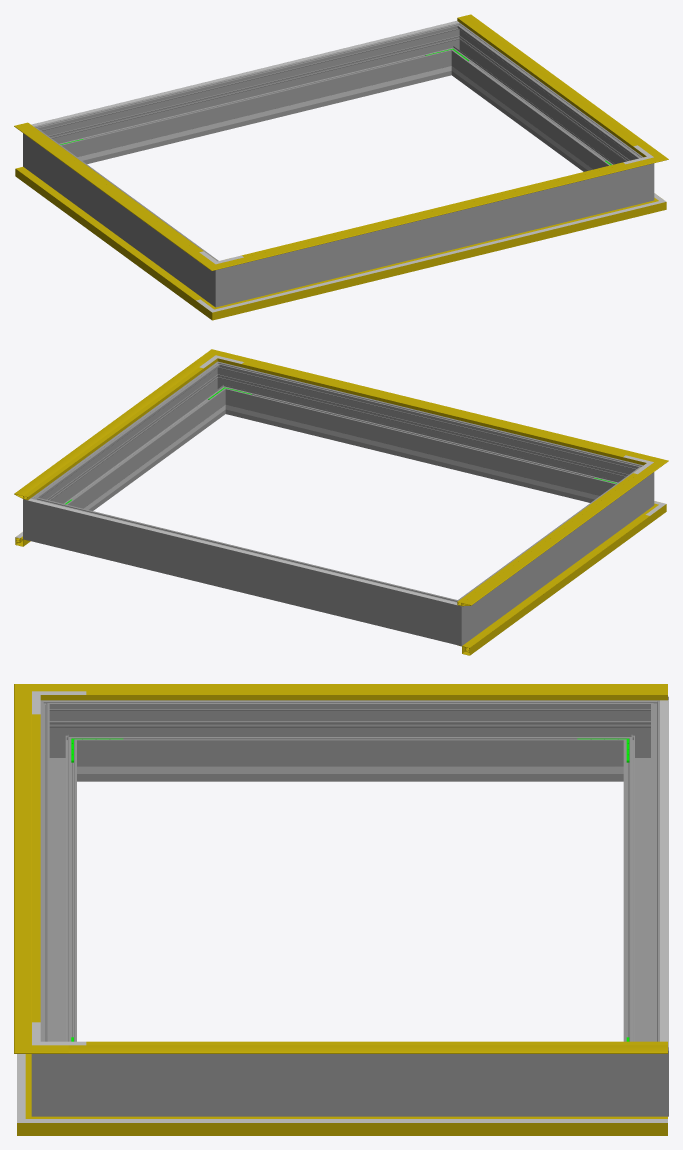
3 renders of one model, top to bottom at view 1: azimuth 30°, elevation 25°; view 2: azimuth 150°, elevation 25°; view 3: azimuth 270°, elevation 25°, orthographic. The views are drawn at different scales.
Visible parts, largest first — view 1: 3DGeom-276, 3DGeom-298, 3DGeom-297, 3DGeom-268, 3DGeom-11, 3DGeom-141, 3DGeom-145, 3DGeom-6, 3DGeom-147, 3DGeom-244, 3DGeom-270, 3DGeom-220 (+10 smaller); view 2: 3DGeom-298, 3DGeom-276, 3DGeom-297, 3DGeom-268, 3DGeom-141, 3DGeom-145, 3DGeom-6, 3DGeom-147, 3DGeom-278, 3DGeom-239, 3DGeom-220, 3DGeom-284 (+7 smaller); view 3: 3DGeom-268, 3DGeom-297, 3DGeom-298, 3DGeom-276, 3DGeom-16, 3DGeom-147, 3DGeom-141, 3DGeom-145, 3DGeom-290, 3DGeom-284, 3DGeom-232, 3DGeom-220 (+9 smaller).
Part boxes in pixels (x1,y1,x2,y2): 3DGeom-276: (54, 28, 446, 164); 3DGeom-298: (244, 170, 625, 300); 3DGeom-297: (454, 33, 632, 171); 3DGeom-268: (39, 136, 207, 294); 3DGeom-11: (237, 205, 637, 313); 3DGeom-141: (235, 162, 640, 263); 3DGeom-145: (457, 14, 651, 152); 3DGeom-6: (15, 167, 203, 308); 3DGeom-147: (14, 123, 203, 258); 3DGeom-244: (88, 72, 423, 159); 3DGeom-270: (199, 253, 244, 307); 3DGeom-220: (31, 21, 458, 126); 3DGeom-298: (230, 367, 622, 502); 3DGeom-276: (51, 502, 438, 638); 3DGeom-297: (44, 371, 222, 510); 3DGeom-268: (469, 475, 637, 633); 3DGeom-141: (232, 356, 639, 462); 3DGeom-145: (14, 361, 209, 500); 3DGeom-6: (459, 514, 649, 655); 3DGeom-147: (457, 470, 651, 606); 3DGeom-278: (433, 592, 478, 646); 3DGeom-239: (253, 411, 589, 497); 3DGeom-220: (28, 498, 457, 605); 3DGeom-284: (23, 488, 56, 545); 3DGeom-268: (86, 700, 614, 781); 3DGeom-297: (86, 1054, 614, 1116); 3DGeom-298: (40, 719, 76, 1041); 3DGeom-276: (623, 719, 659, 1041); 3DGeom-16: (71, 1116, 667, 1135); 3DGeom-147: (68, 684, 667, 700); 3DGeom-141: (14, 707, 31, 1029); 3DGeom-145: (68, 1045, 667, 1053); 3DGeom-290: (31, 1027, 86, 1116); 3DGeom-284: (614, 1027, 668, 1116); 3DGeom-232: (129, 766, 570, 773); 3DGeom-220: (660, 700, 668, 1047).
Size of the model in its own units: 2.44 by 0.2596 by 1.83.
